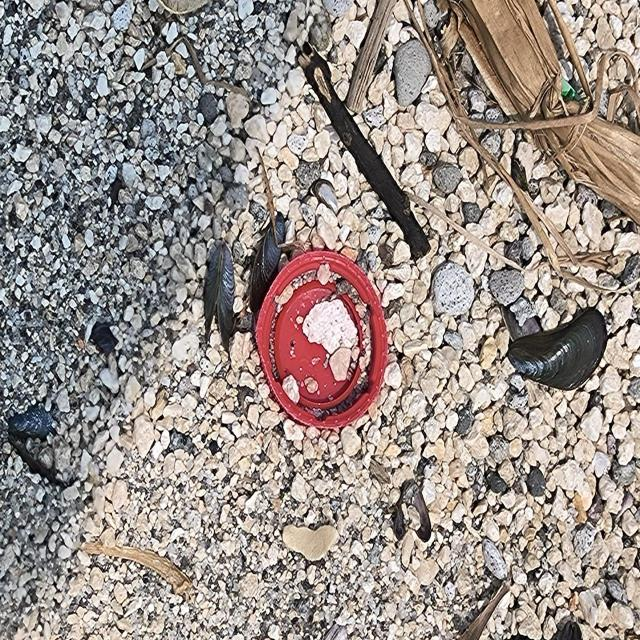plastic_waste: (254, 250, 390, 432)
